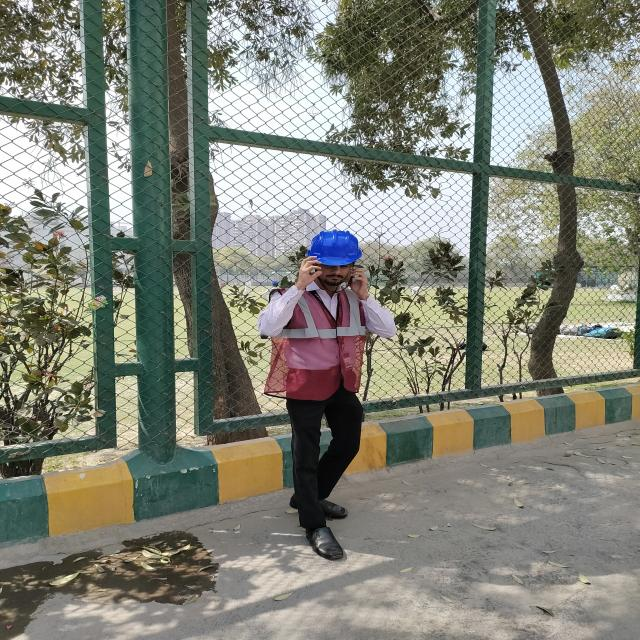safe: (258, 229, 396, 559)
